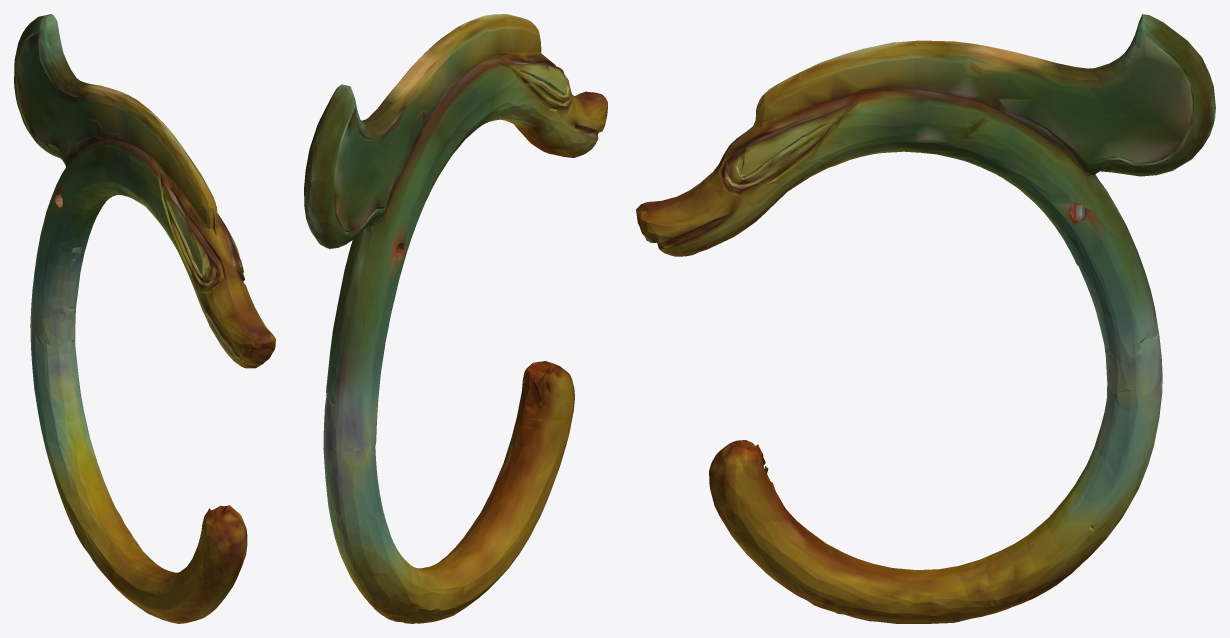
File: Jade-Long.glb
3 views of the same model, side by side, from view 1: azimuth 30°, elevation 25°; view 2: azimuth 150°, elevation 25°; view 3: azimuth 270°, elevation 25° (orthographic). The views are drawn at different scales.
Parts seen in each view (by area): view 1: tripo_node_13238f37-4a00-4d02-b3a9-beff5a7920e3; view 2: tripo_node_13238f37-4a00-4d02-b3a9-beff5a7920e3; view 3: tripo_node_13238f37-4a00-4d02-b3a9-beff5a7920e3.
Part boxes in pixels (left/top/right/bottom): tripo_node_13238f37-4a00-4d02-b3a9-beff5a7920e3: left=14, top=14, right=275, bottom=623; tripo_node_13238f37-4a00-4d02-b3a9-beff5a7920e3: left=304, top=14, right=607, bottom=623; tripo_node_13238f37-4a00-4d02-b3a9-beff5a7920e3: left=636, top=14, right=1215, bottom=623.
Bounding box in the file's own units: 0.0855 × 1 × 0.8686.
